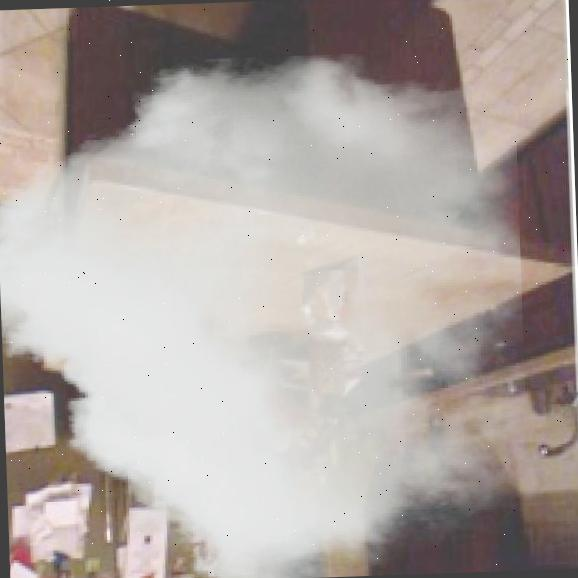smoke: (0, 48, 531, 578)
